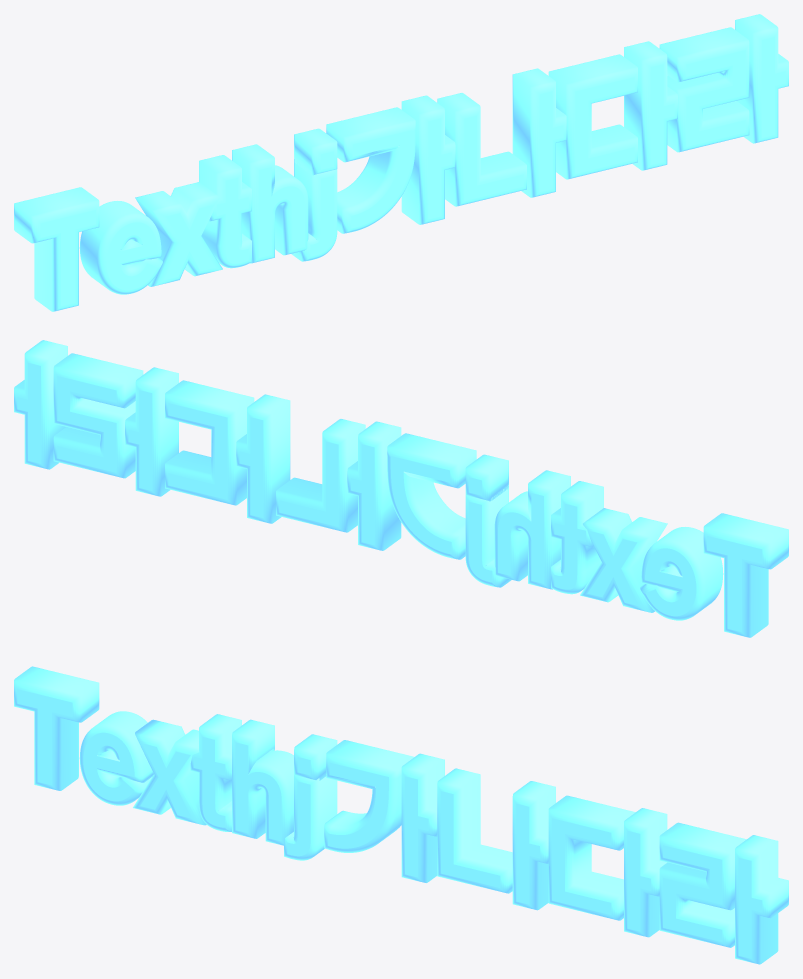
3 views of the same model, one above another, from view 1: azimuth 30°, elevation 25°; view 2: azimuth 150°, elevation 25°; view 3: azimuth 330°, elevation 25° (orthographic).
Visible parts, largest first — view 1: Text; view 2: Text; view 3: Text.
Part boxes in pixels (x1,y1,x2,y2): Text: (14, 14, 788, 311); Text: (14, 340, 788, 637); Text: (14, 666, 788, 964).
Bounding box in the file's own units: 3.75 × 0.5646 × 0.2.
